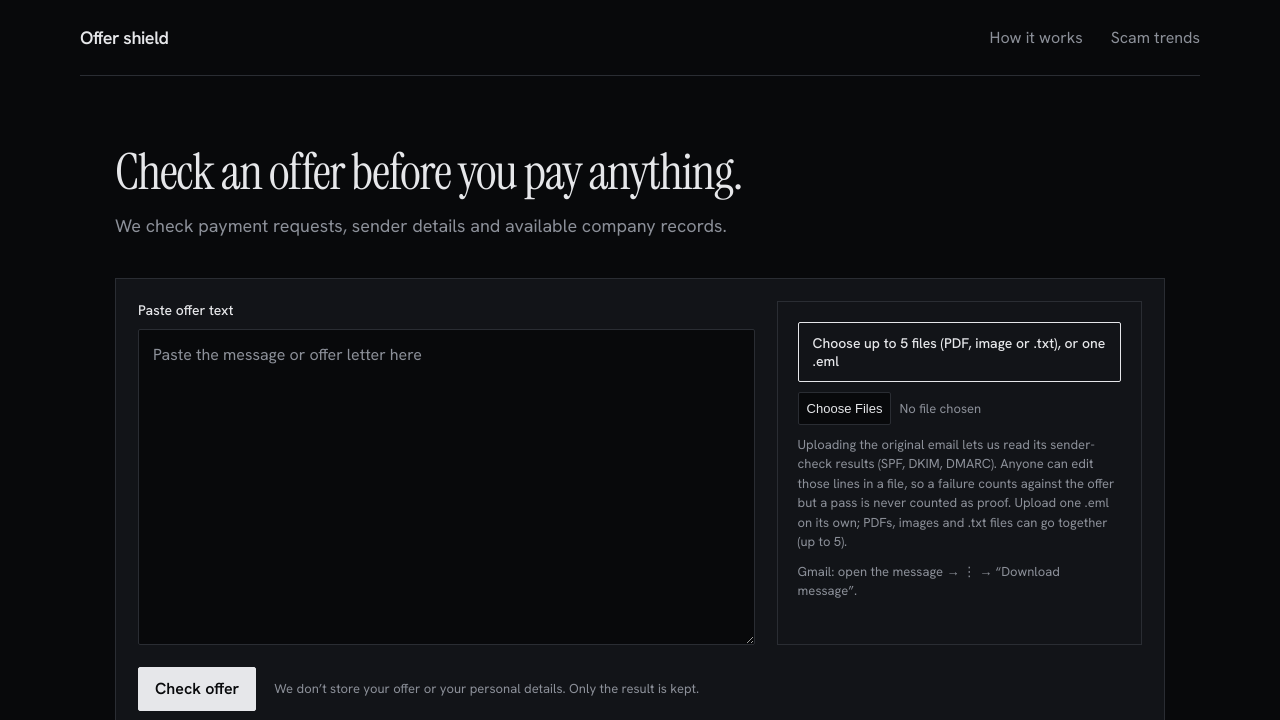
Test: analysis result › does not headline a likely-legitimate result as legitimate, says it is not proof and points to the employer’s own website
The image size is (1280, 720).
In the text box labelled "Paste offer text": coordinates (446, 487) [138,329,755,645], type "Test offer text"
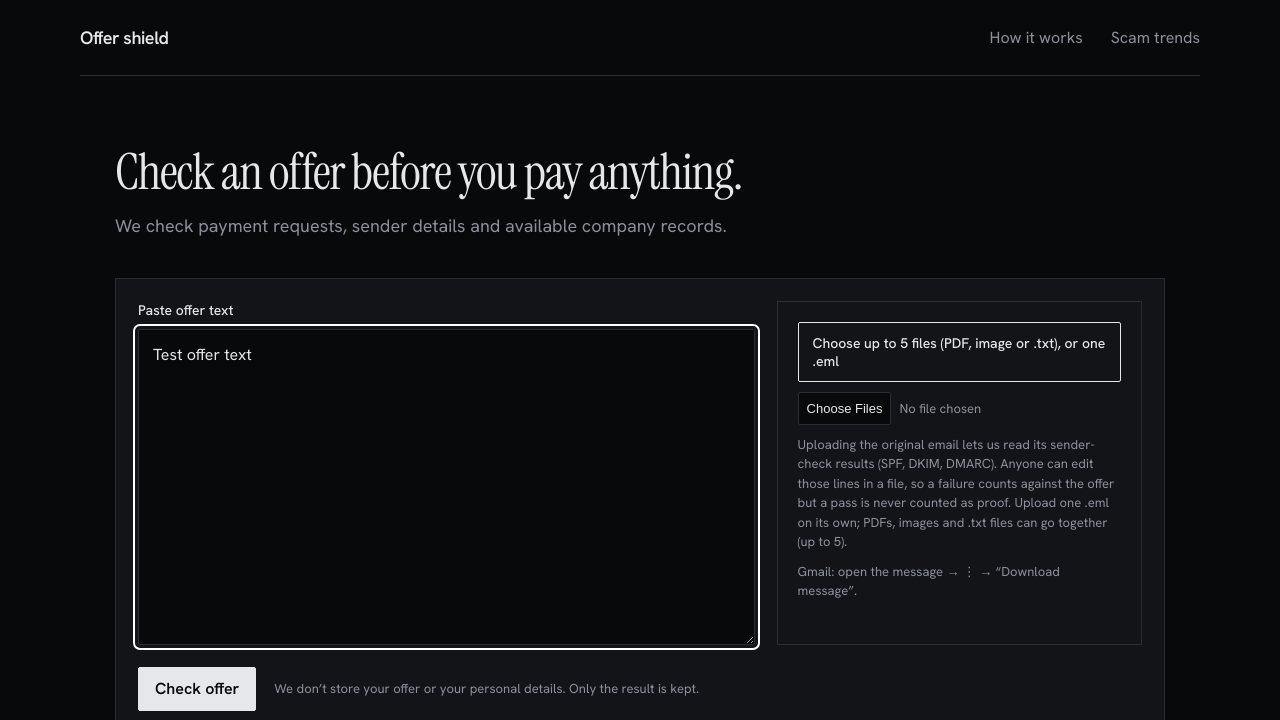
Click the button "Check offer": coordinates (197, 689) [138,667,256,711]
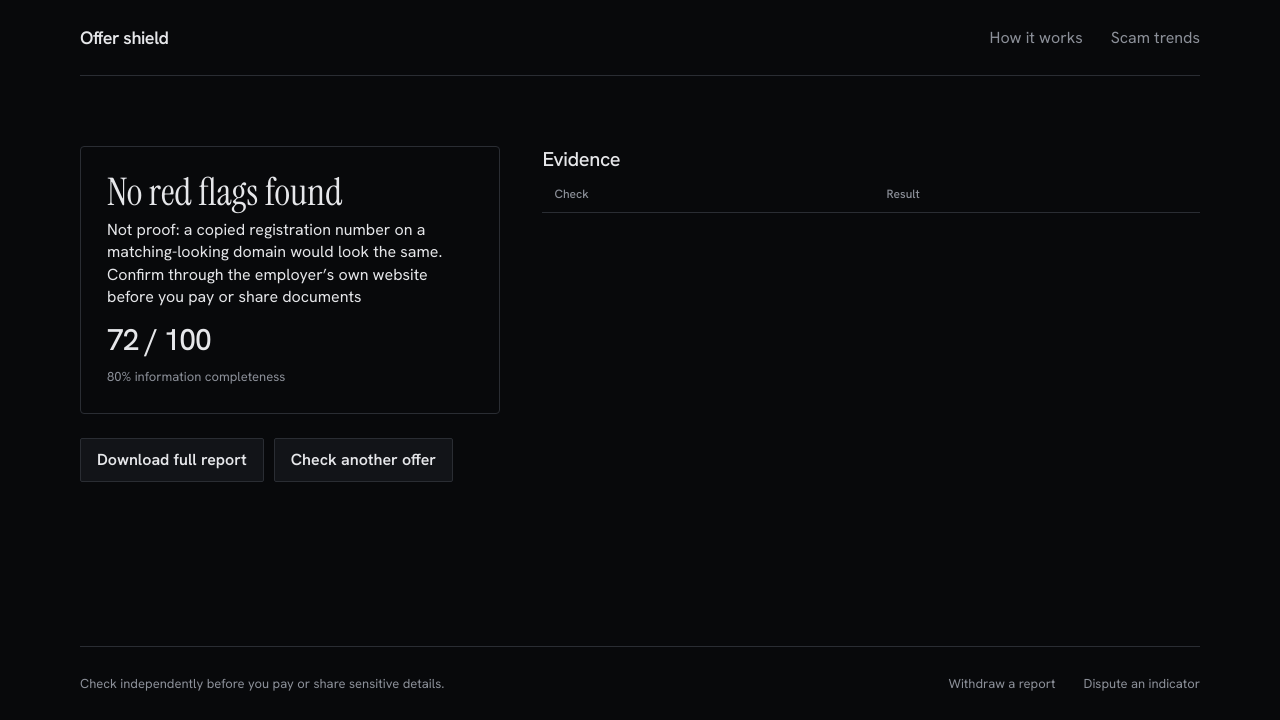
Result: the heading "No red flags found" is shown at [107,167,342,217]
